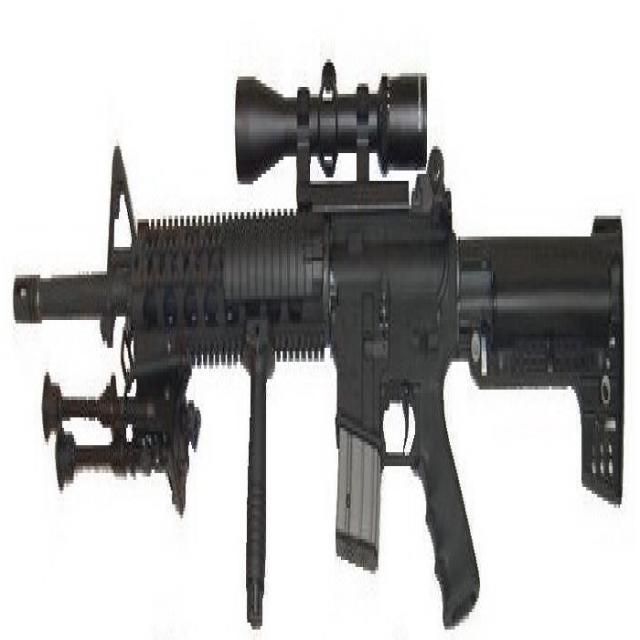gun: (8, 47, 633, 618)
